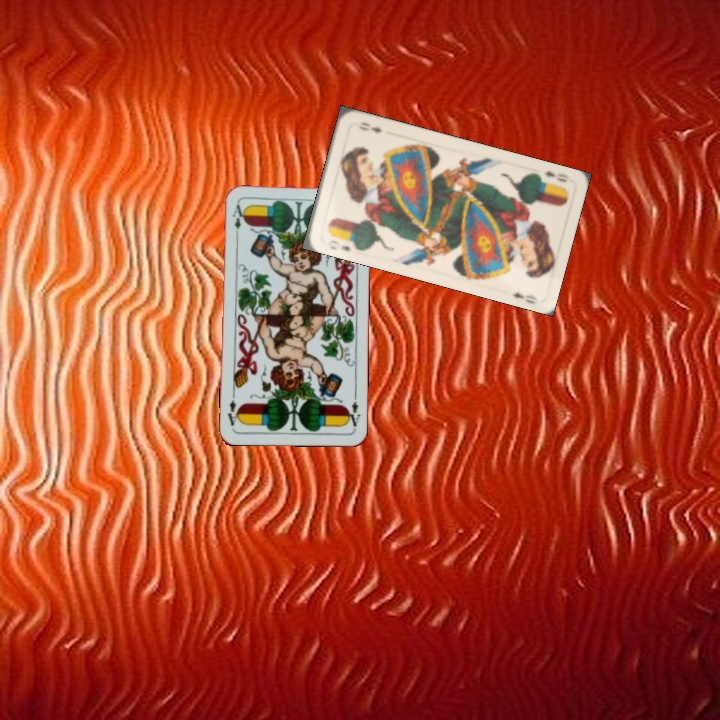EA: (343, 390, 363, 429), (228, 200, 245, 240)
EO: (540, 166, 571, 185), (323, 236, 353, 254)
